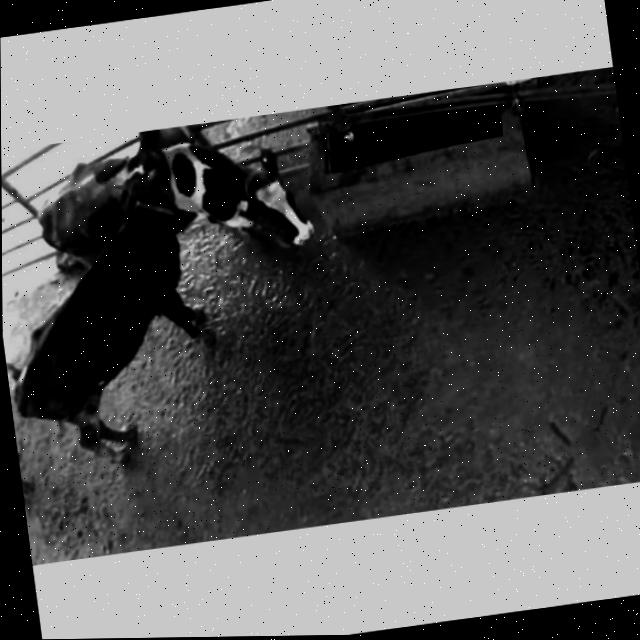propping: (96, 124, 204, 248)
